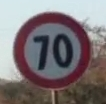limite 70: (12, 11, 92, 89)
